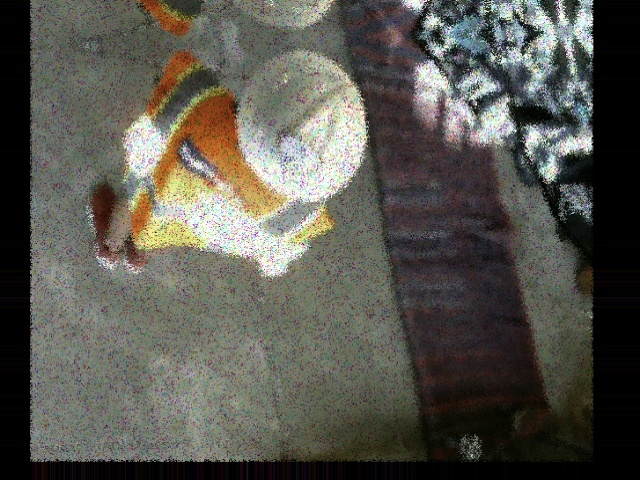two: (273, 133, 324, 176)
